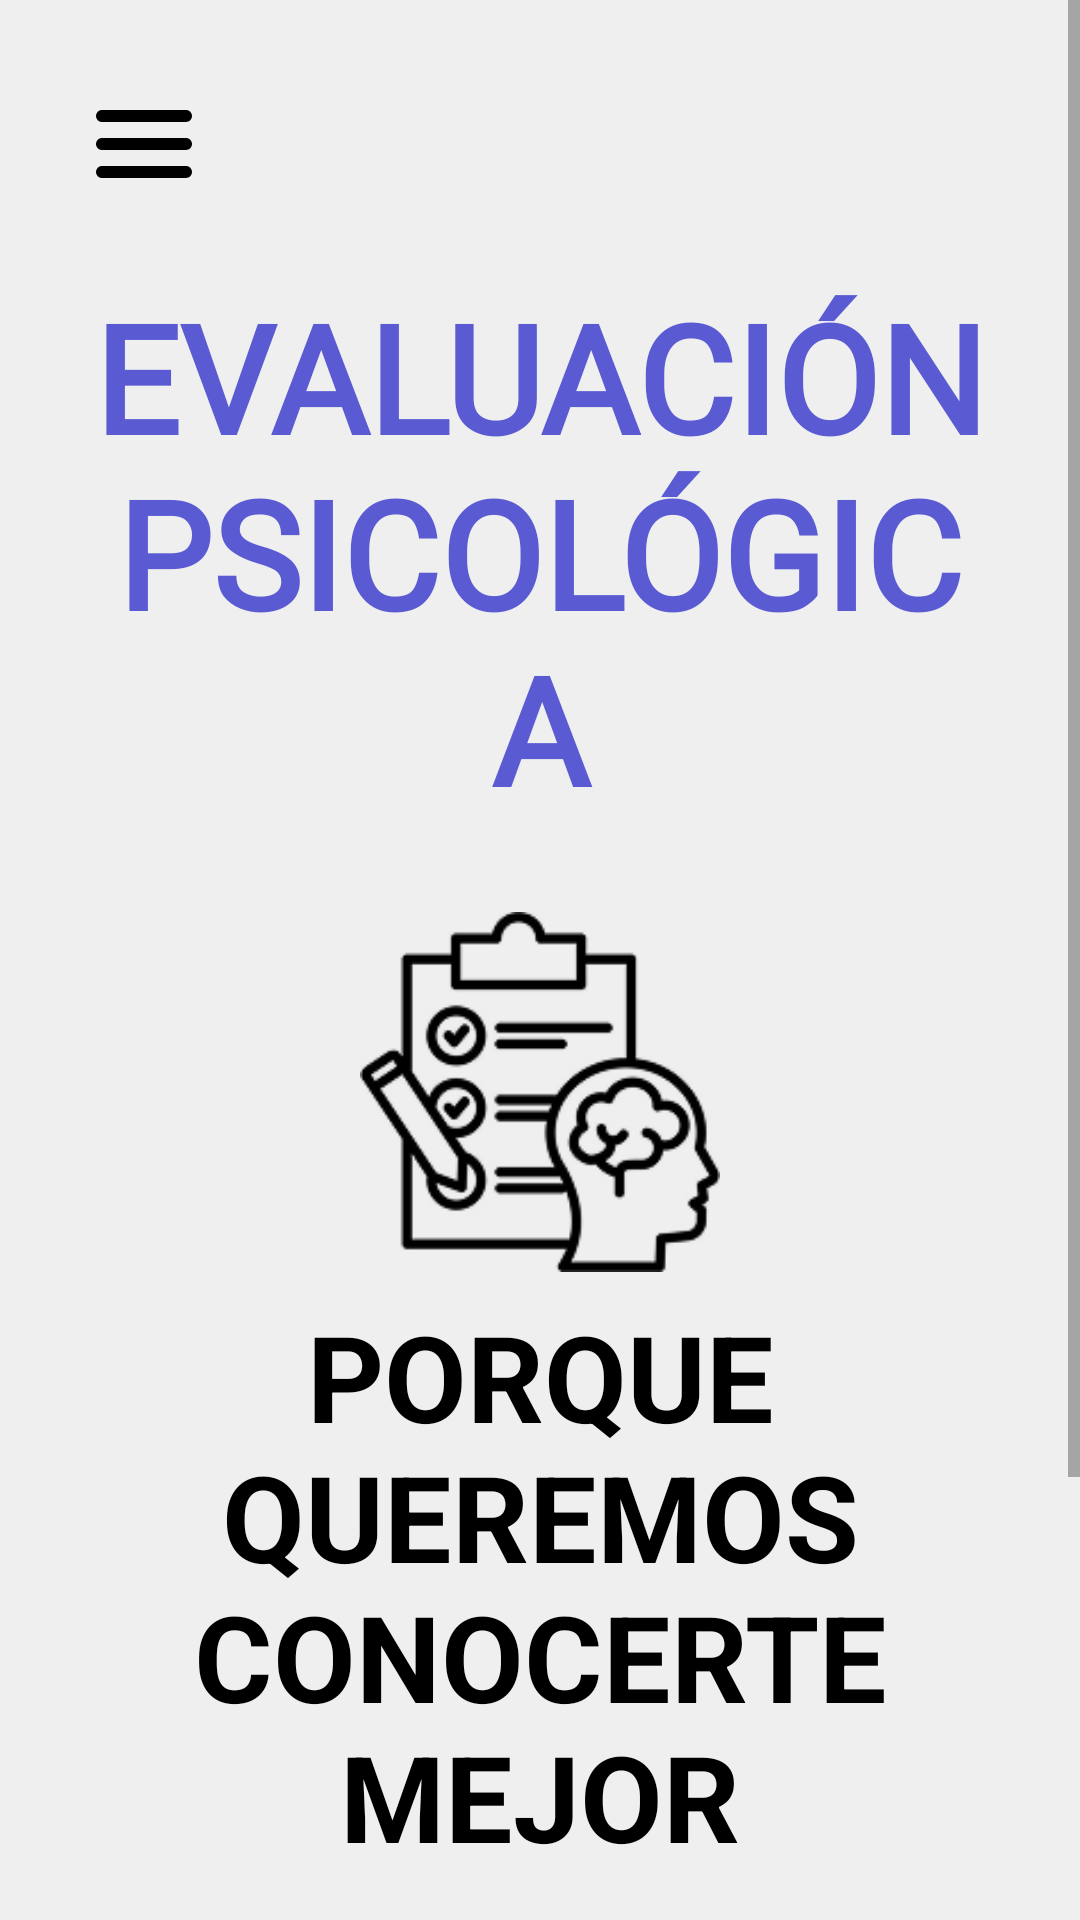

Icons on this 1080x1920 Android screen, each with the point to tap as (x=x, y=y):
burger: (x=144, y=144)
